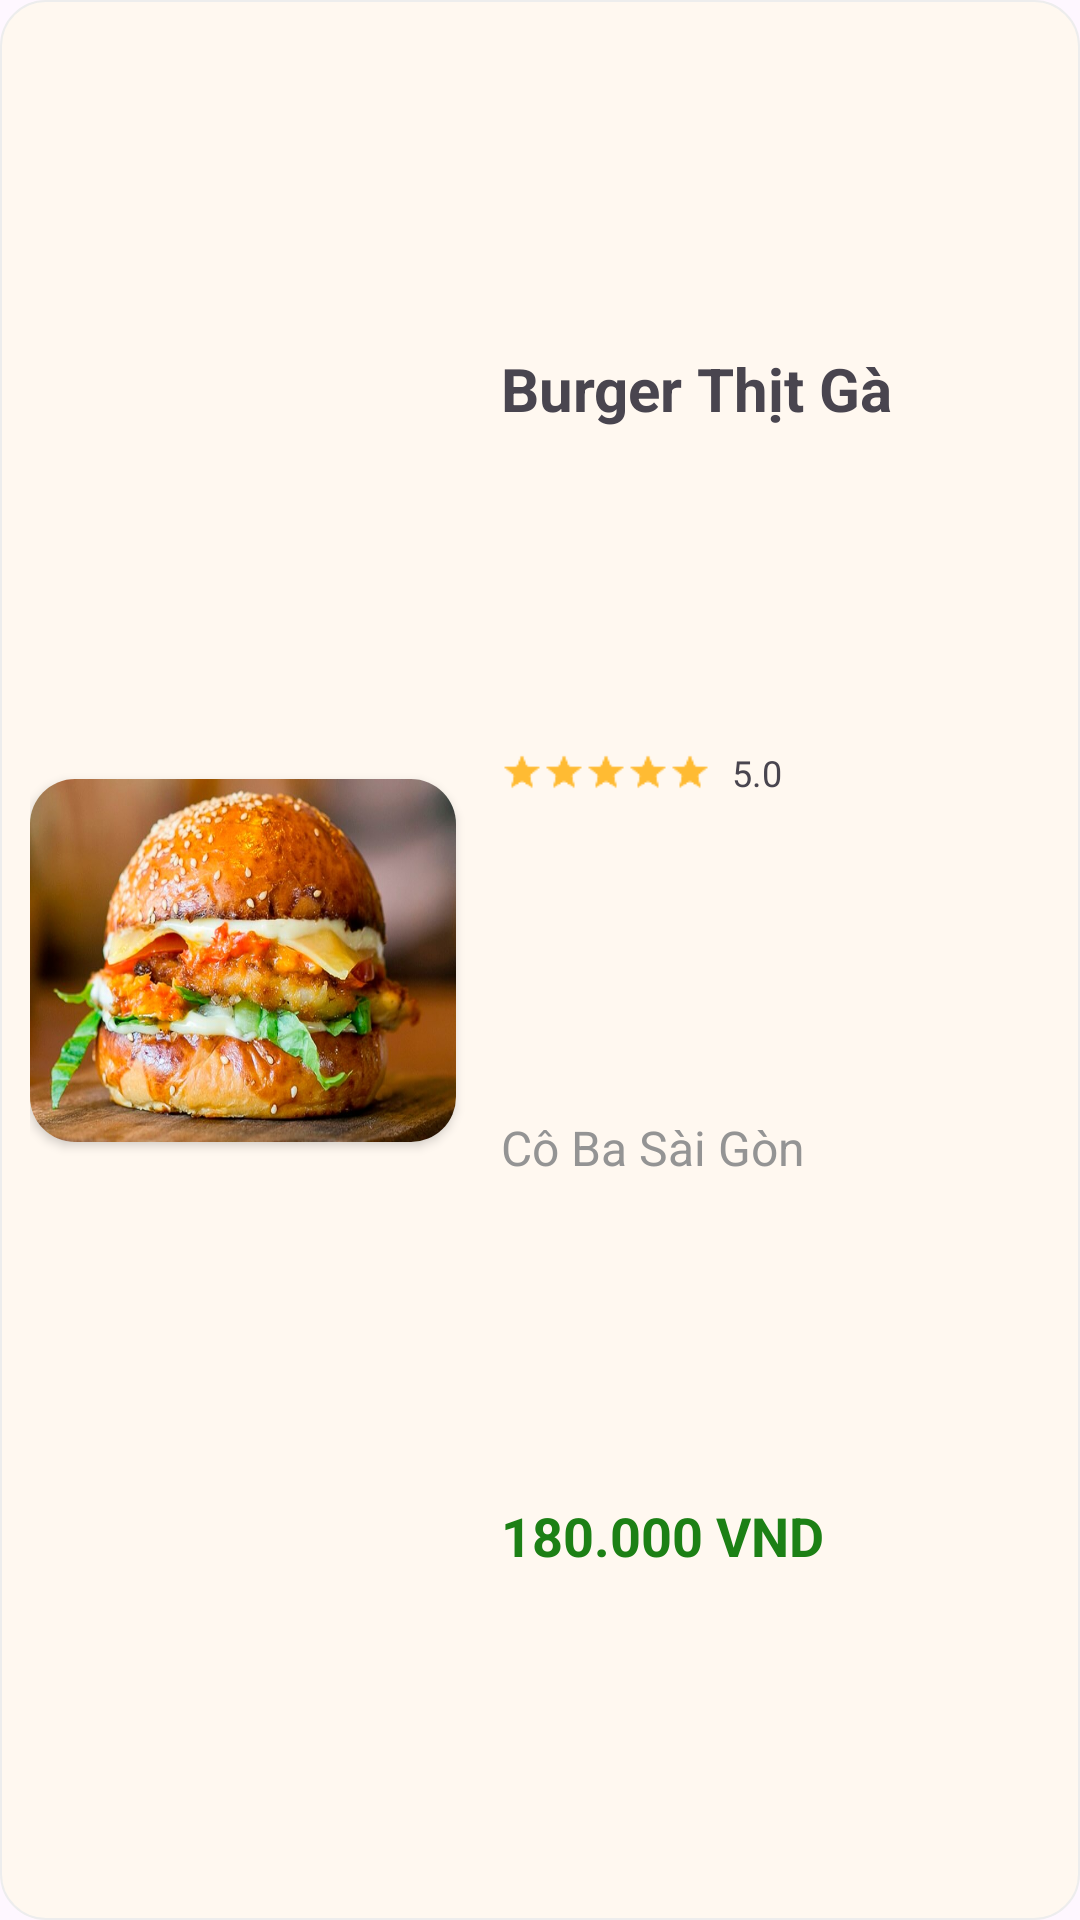

Where to tap for icons on this 1080×1920 app screen, as (x,y):
Ngôi sao đánh giá: (522,772), (564,772), (606,772), (648,772), (690,772)
